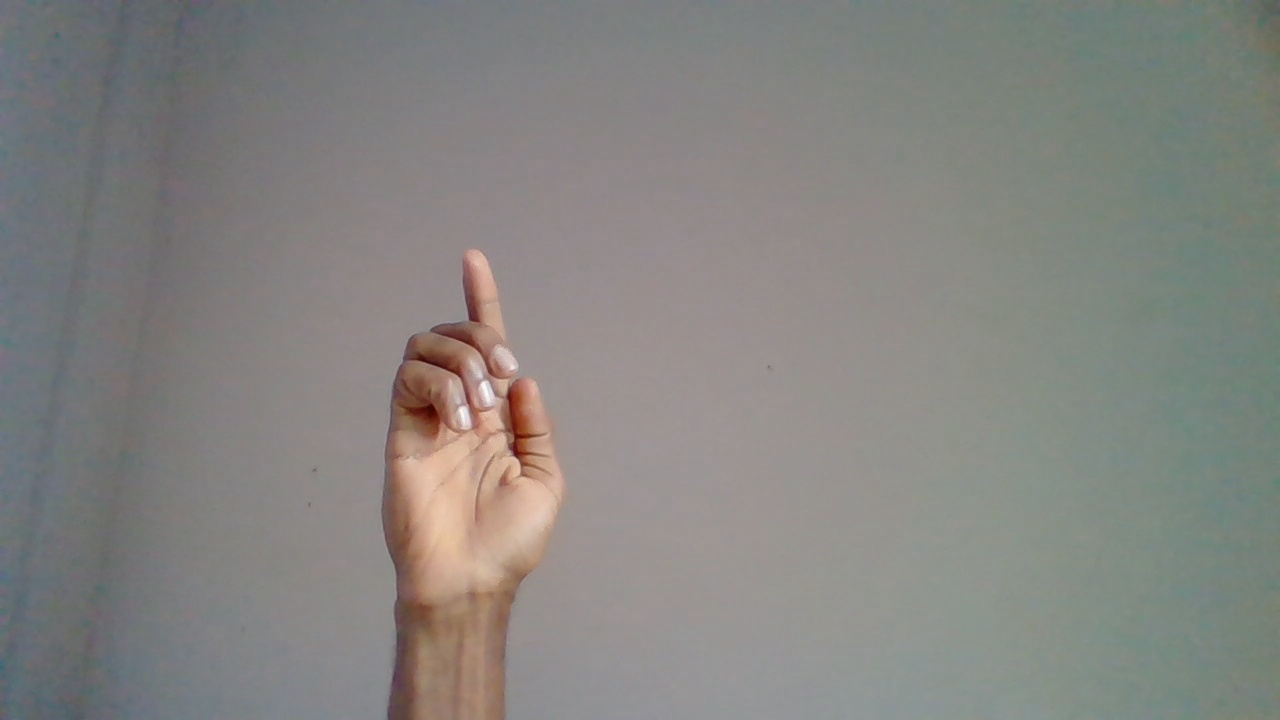qe: (386, 244, 567, 674)
